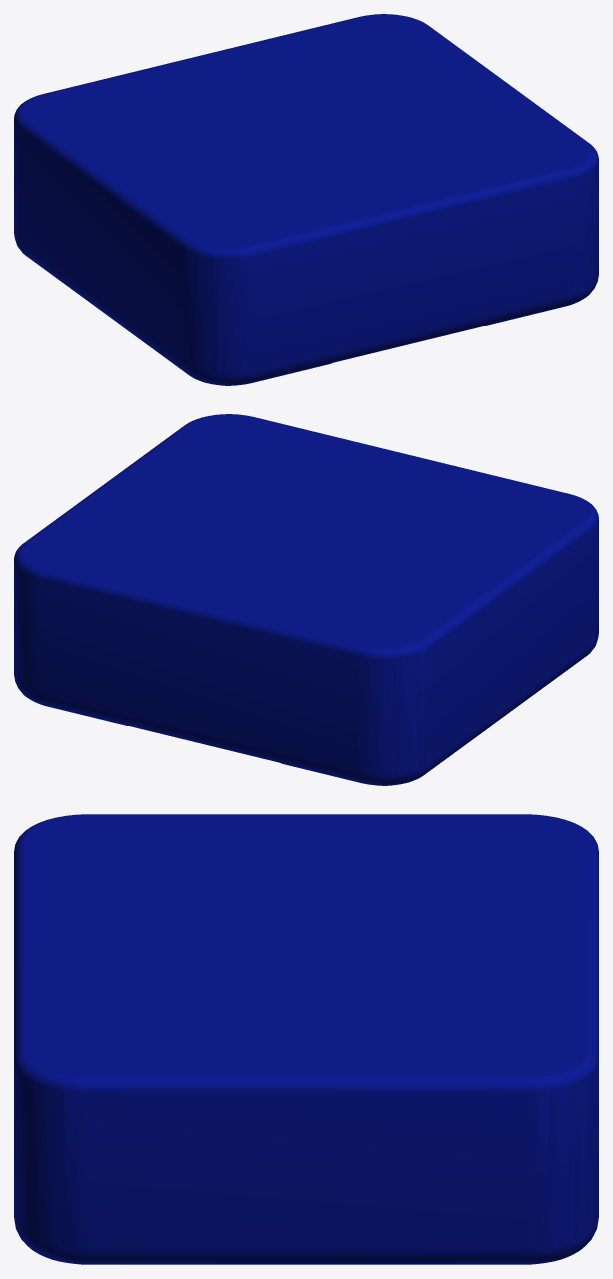
The model's file is chassis_link.dae.
The picture shows the model from 3 angles, top to bottom: view 1: azimuth 30°, elevation 25°; view 2: azimuth 150°, elevation 25°; view 3: azimuth 270°, elevation 25°; orthographic projection. The views are drawn at different scales.
Parts seen in each view (by area): view 1: node; view 2: node; view 3: node.
Boxes of the visible parts, box(x1,y1,x2,y2) form: node: box(14, 14, 598, 385); node: box(14, 414, 598, 785); node: box(14, 814, 598, 1264).
Bounding box in the file's own units: 0.44 × 0.4 × 0.145.
